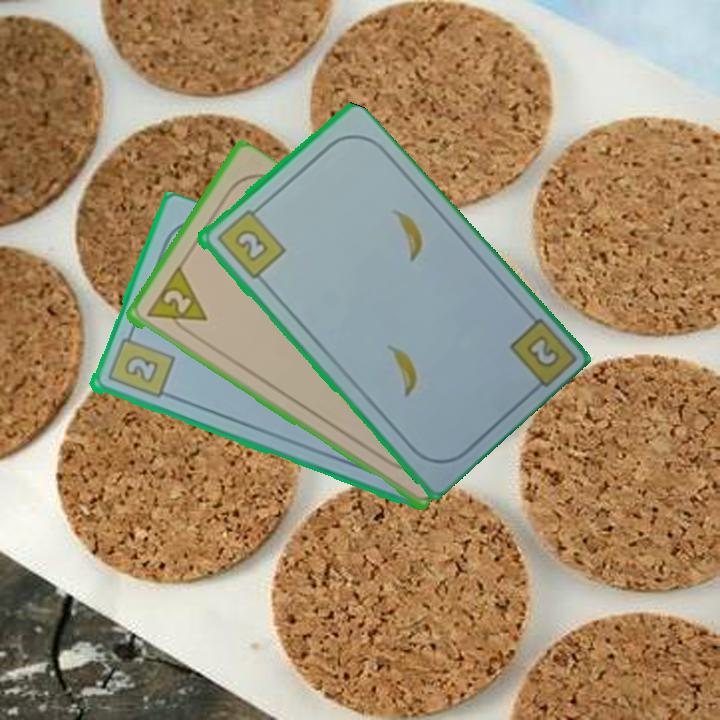2b: (212, 202, 288, 282), (103, 326, 176, 401), (522, 331, 564, 371)
2p: (159, 285, 194, 317)
